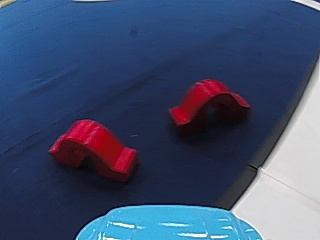bridge: (45, 113, 142, 183), (162, 75, 252, 135)
